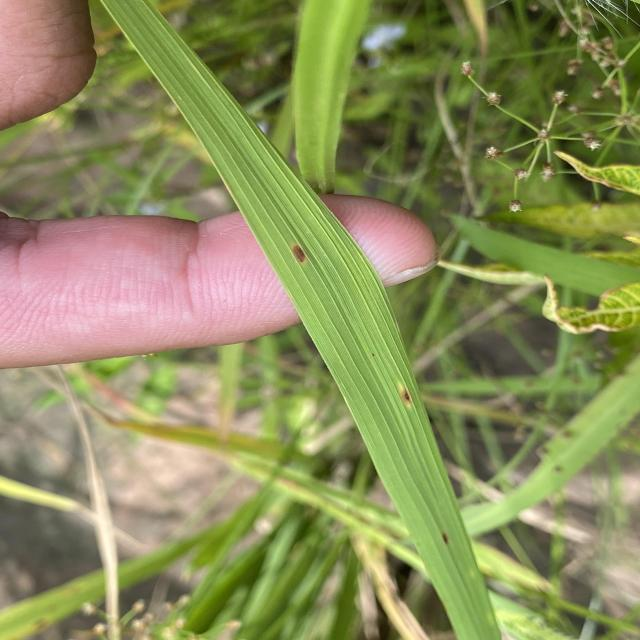Dom nau: (290, 243, 307, 264)
